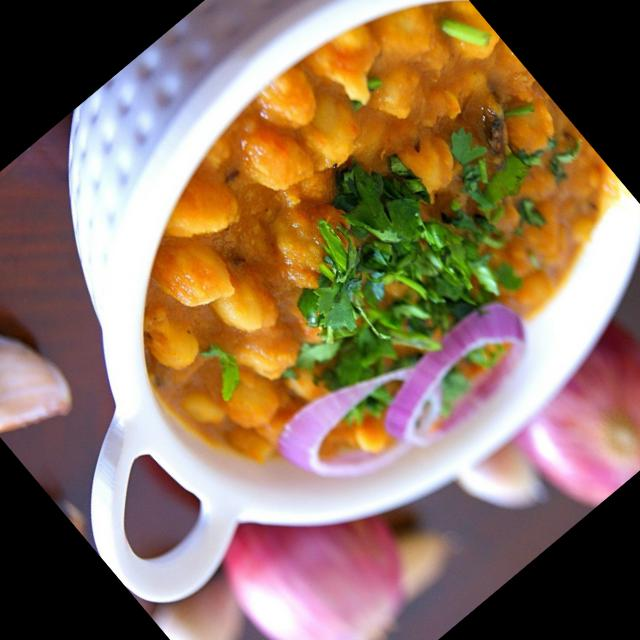Chole: (51, 0, 640, 561)
